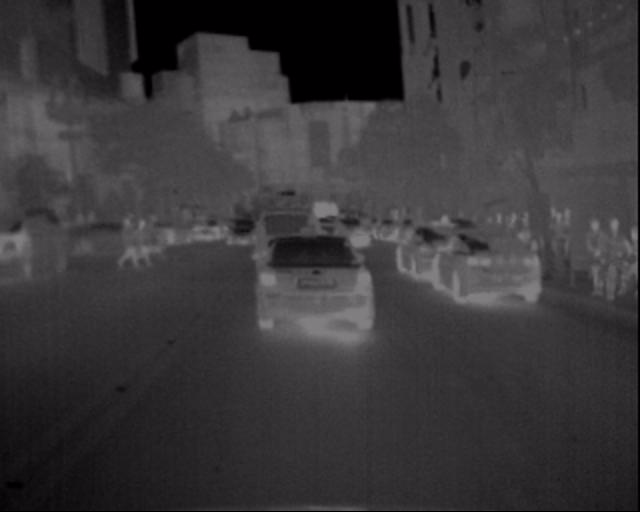person: (598, 208, 632, 306), (582, 213, 612, 299), (128, 210, 165, 275), (113, 210, 147, 276), (581, 211, 604, 295), (551, 195, 574, 278), (141, 211, 171, 264)
